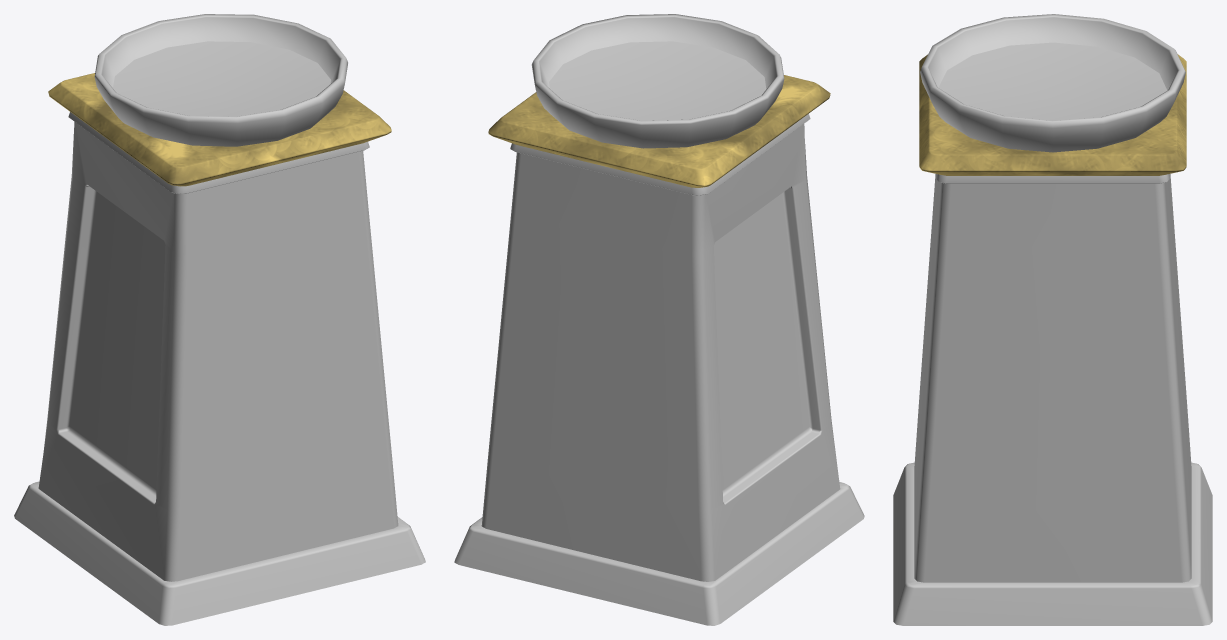
Rendered from Lightstand.fbx.
3 views of the same model, side by side, from view 1: azimuth 30°, elevation 25°; view 2: azimuth 150°, elevation 25°; view 3: azimuth 270°, elevation 25° (orthographic). The views are drawn at different scales.
Visible parts, largest first — view 1: Stand_LOD0; view 2: Stand_LOD0; view 3: Stand_LOD0.
Boxes of the visible parts, x1=… form: Stand_LOD0: x1=14, y1=14, x2=425, y2=625; Stand_LOD0: x1=454, y1=14, x2=864, y2=625; Stand_LOD0: x1=893, y1=14, x2=1212, y2=625.
Size of what is drawn, in the model's own units: 64.11 by 109 by 64.11.
